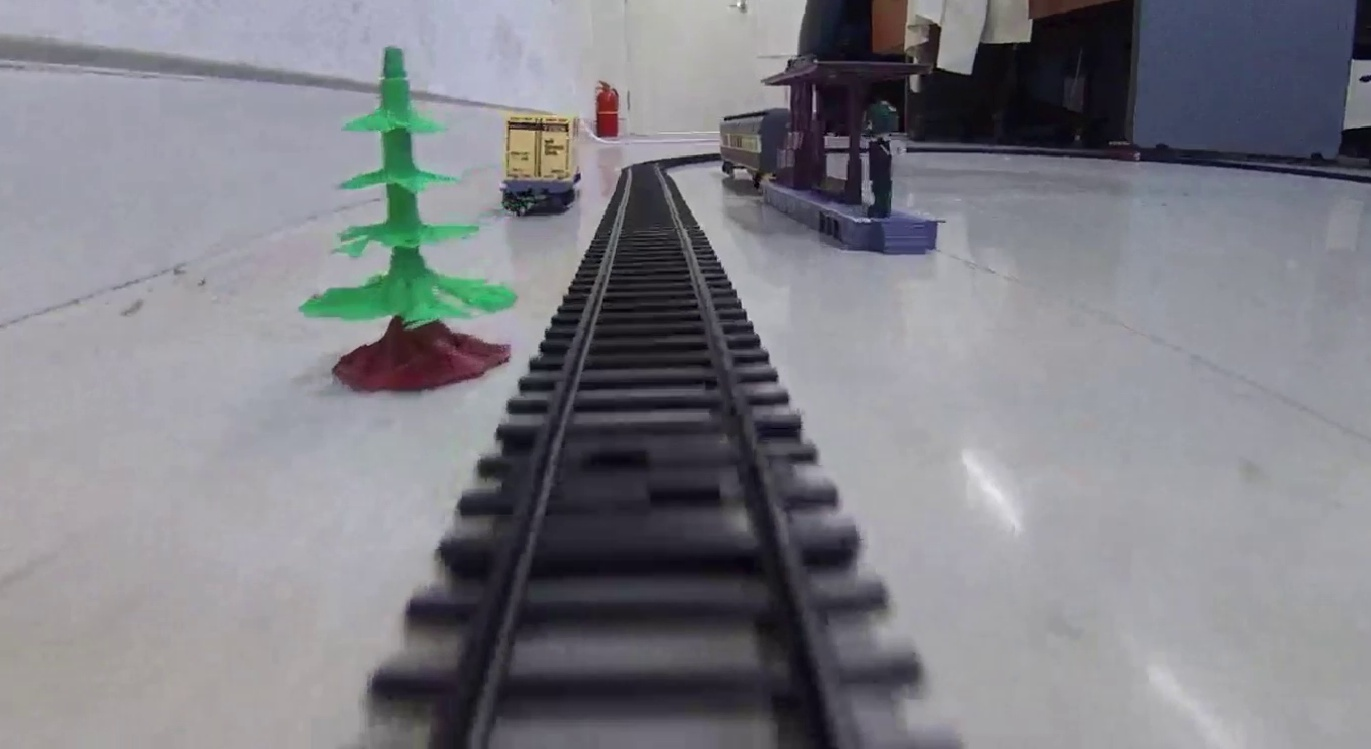tree: (303, 45, 517, 394)
